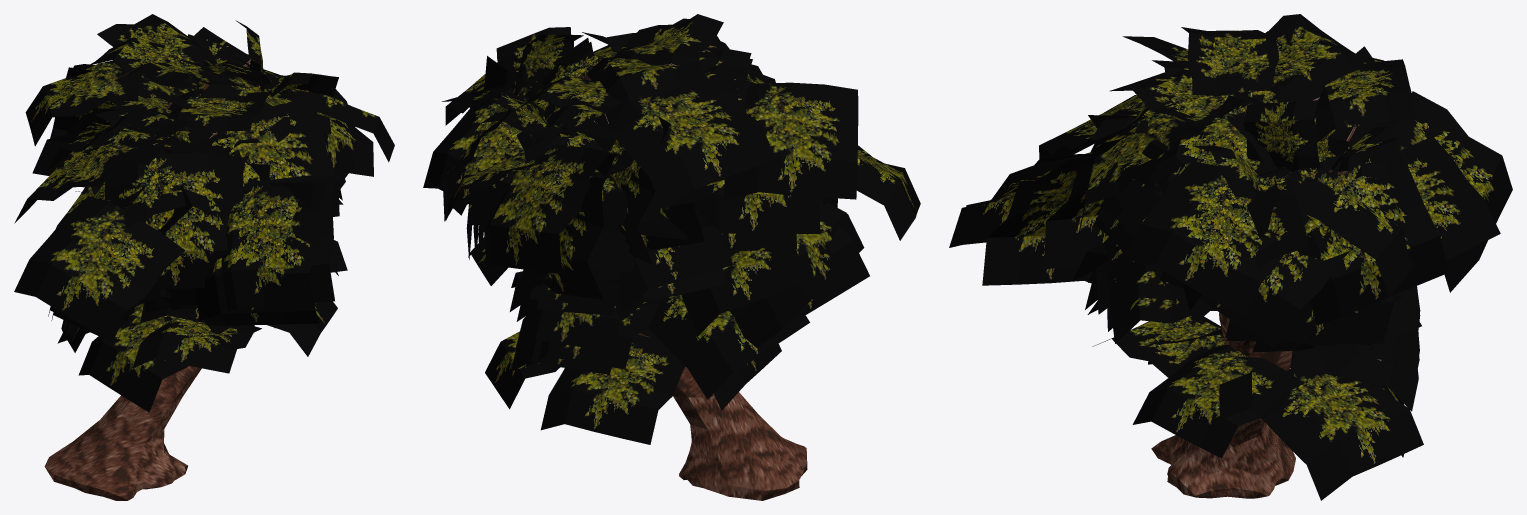
The model's file is arvore 3.fbx.
3 views of the same model, side by side, from view 1: azimuth 30°, elevation 25°; view 2: azimuth 150°, elevation 25°; view 3: azimuth 270°, elevation 25° (orthographic). The views are drawn at different scales.
Visible parts, largest first — view 1: arvore 3; view 2: arvore 3; view 3: arvore 3.
Part boxes in pixels (x1,y1,x2,y2): arvore 3: (14, 14, 394, 500); arvore 3: (423, 14, 920, 500); arvore 3: (949, 14, 1512, 500).
Size of the model in its own units: 1165 by 1144 by 1223.
1 material, 1 textured.
